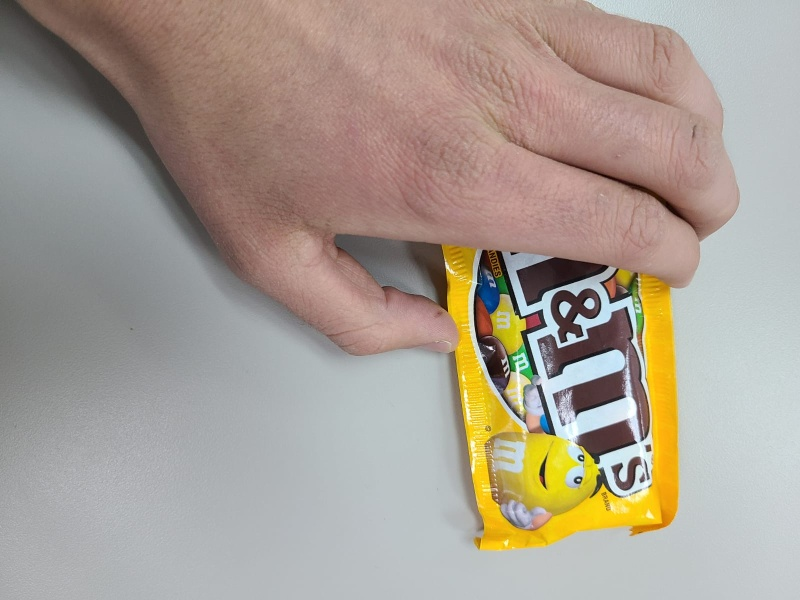m&m: (455, 196, 680, 561)
